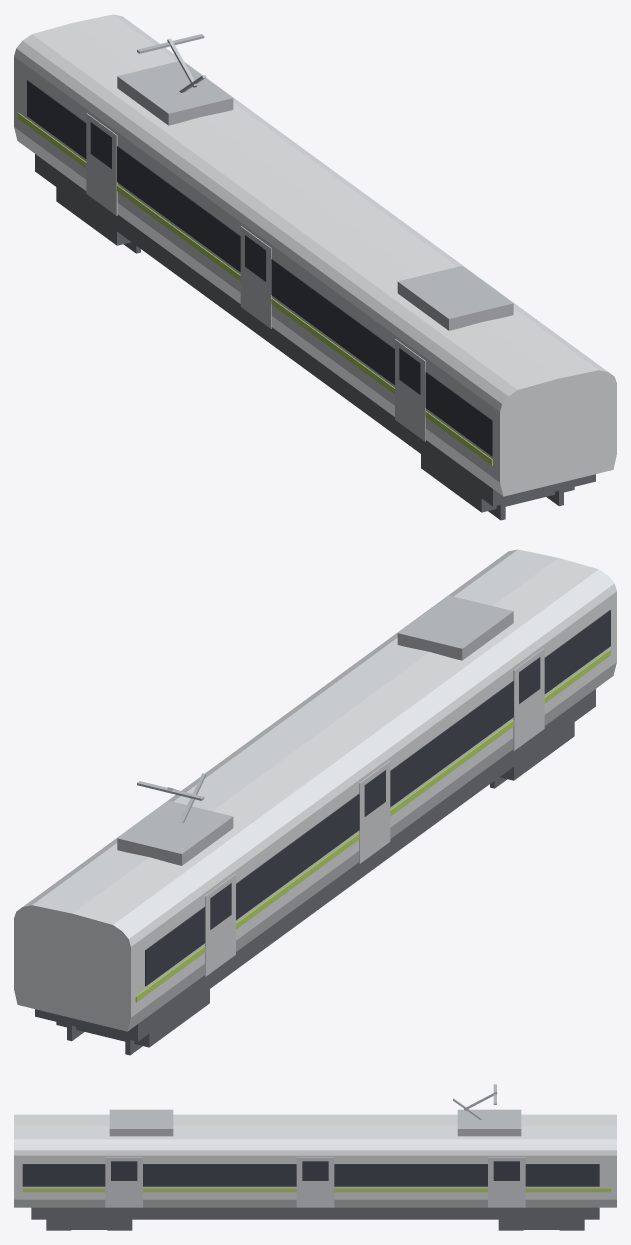
File: ser733_mid.glb
3 views of the same model, one above another, from view 1: azimuth 30°, elevation 25°; view 2: azimuth 150°, elevation 25°; view 3: azimuth 270°, elevation 25° (orthographic). The views are drawn at different scales.
Visible parts, largest first — view 1: ser733_mid; view 2: ser733_mid; view 3: ser733_mid.
Boxes of the visible parts, bbox=[...] form: ser733_mid: bbox=[14, 14, 616, 520]; ser733_mid: bbox=[14, 549, 616, 1055]; ser733_mid: bbox=[14, 1084, 616, 1230].
Bounding box in the file's own units: 2.96 × 4.92 × 20.8.
